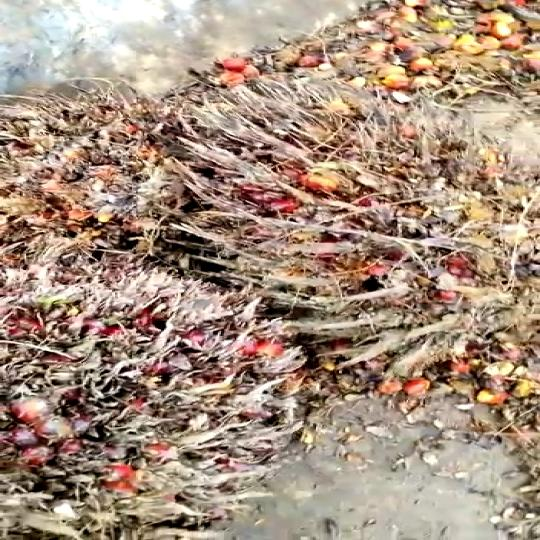terlalu masak: (171, 114, 529, 370), (0, 274, 302, 434)
